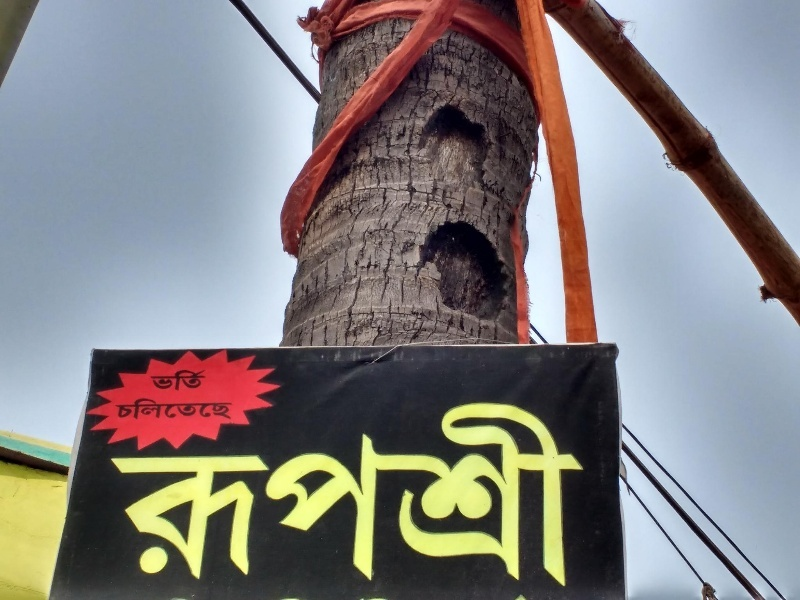text: (113, 375, 128, 598), (129, 375, 144, 598), (145, 375, 160, 598), (161, 375, 176, 598), (177, 375, 192, 598), (193, 375, 208, 598), (209, 375, 224, 598), (225, 375, 240, 598), (241, 375, 256, 598), (257, 375, 272, 598), (273, 375, 288, 598), (289, 375, 304, 598), (305, 375, 320, 598), (321, 375, 336, 598), (337, 375, 352, 598), (353, 375, 368, 598), (369, 375, 384, 598), (385, 375, 400, 598), (401, 375, 416, 598), (417, 375, 432, 598), (433, 375, 448, 598), (449, 375, 464, 598), (465, 375, 480, 598), (481, 375, 496, 598), (497, 375, 512, 598), (513, 375, 528, 598), (529, 375, 544, 598), (545, 375, 560, 598), (561, 375, 576, 598), (577, 375, 592, 598), (104, 375, 112, 598), (113, 391, 128, 426), (129, 391, 144, 426), (145, 391, 160, 426), (161, 391, 176, 426), (177, 391, 192, 426), (193, 391, 208, 426), (209, 391, 224, 426), (161, 361, 176, 395), (177, 361, 192, 395), (193, 361, 208, 395), (225, 391, 238, 426), (593, 375, 595, 598), (147, 361, 160, 395), (209, 361, 215, 395)
